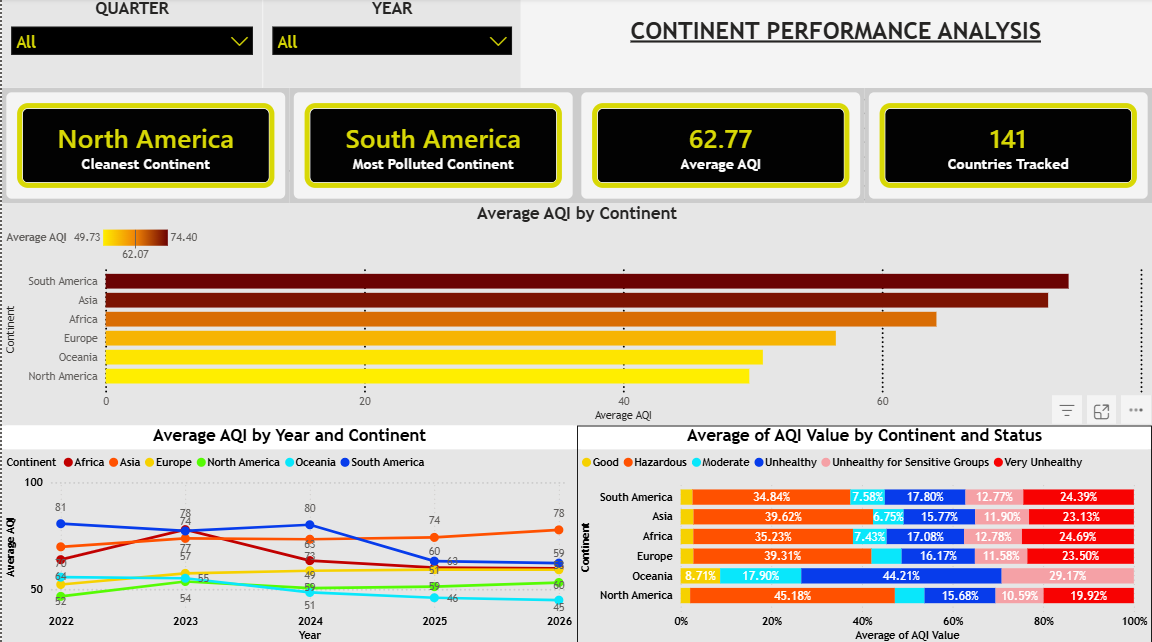

What the dashboard file says about the page in this screenshot:
{"tool":"powerbi","page":{"name":"Page 4","canvas":[1280,720],"ordinal":3},"visuals":[{"type":"textbox","box":[576,0,704,100.2],"z":0},{"type":"slicer","title":"QUARTER","fields":{"Values":["AQI_Data.Quarter"]},"box":[0,0,289.4,100.2],"z":1000},{"type":"slicer","title":"YEAR","fields":{"Values":["AQI_Data.Year"]},"box":[290.8,0,286.6,100.2],"z":2000},{"type":"cardVisual","fields":{"Data":["AQI_Data.Countries Tracked"]},"box":[960,100.2,320,128],"z":3000},{"type":"cardVisual","fields":{"Data":["AQI_Data.Average AQI"]},"box":[640,100.2,320,128],"z":4000},{"type":"cardVisual","fields":{"Data":["AQI_Data.Most Polluted Continent"]},"box":[320,100.2,320,128],"z":5000},{"type":"cardVisual","fields":{"Data":["AQI_Data.Cleanest Continent"]},"box":[0,100.2,320,128],"z":6000},{"type":"barChart","fields":{"Category":["AQI_Data.Continent"],"Y":["AQI_Data.Average AQI"]},"box":[0,228.2,1280,247.7],"z":7000},{"type":"lineChart","fields":{"Series":["AQI_Data.Continent"],"Y":["AQI_Data.Average AQI"],"Category":["AQI_Data.Year"]},"box":[0,475.8,640,244.9],"z":8000},{"type":"hundredPercentStackedBarChart","fields":{"Category":["AQI_Data.Continent"],"Series":["AQI_Data.Status"],"Y":["Avg(AQI_Data.AQI Value)"]},"box":[640,475.8,640,244.9],"z":9000}]}

Visuals, with their boxes in screenshot pixels (x1, y1, x2, y2), scaled from the page's 1280x720 canvas onto the 1152x642 screenshot:
textbox: (left=518, top=0, right=1151, bottom=89)
"QUARTER" slicer: (left=0, top=0, right=260, bottom=89)
"YEAR" slicer: (left=262, top=0, right=520, bottom=89)
cardVisual - AQI_Data.Countries Tracked: (left=864, top=89, right=1151, bottom=203)
cardVisual - AQI_Data.Average AQI: (left=576, top=89, right=864, bottom=203)
cardVisual - AQI_Data.Most Polluted Continent: (left=288, top=89, right=576, bottom=203)
cardVisual - AQI_Data.Cleanest Continent: (left=0, top=89, right=288, bottom=203)
barChart - AQI_Data.Continent x AQI_Data.Average AQI: (left=0, top=203, right=1151, bottom=424)
lineChart - AQI_Data.Continent x AQI_Data.Average AQI: (left=0, top=424, right=576, bottom=641)
hundredPercentStackedBarChart - AQI_Data.Continent x AQI_Data.Status: (left=576, top=424, right=1151, bottom=641)
